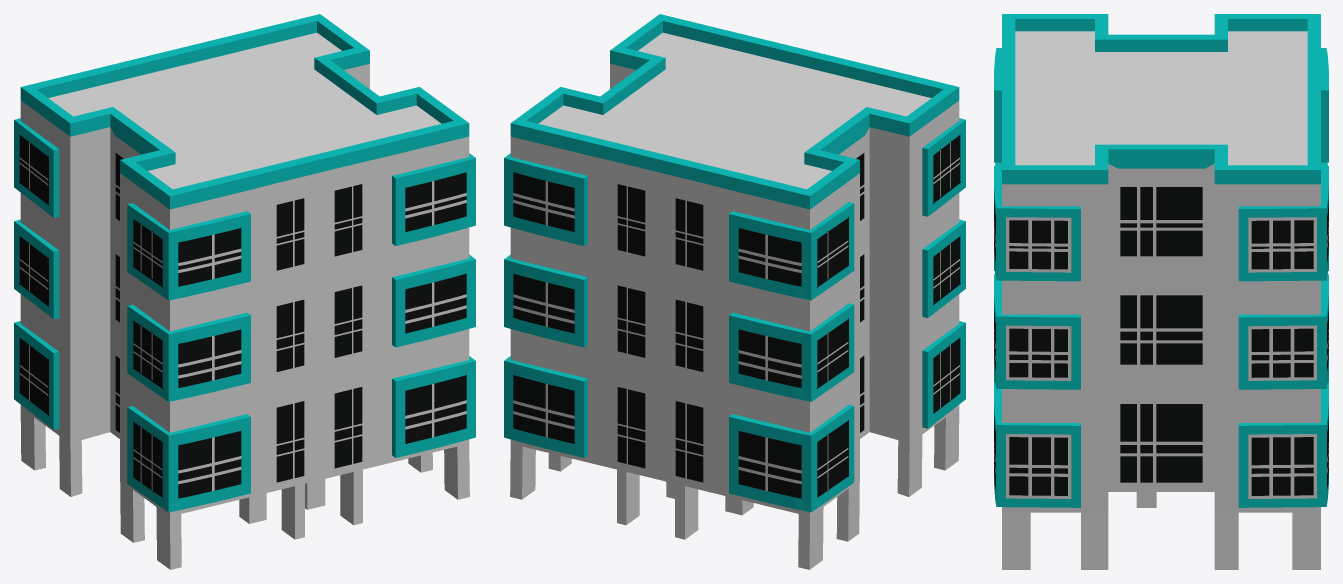
The model's file is apt-11.glb.
3 renders of one model, left to right at view 1: azimuth 30°, elevation 25°; view 2: azimuth 150°, elevation 25°; view 3: azimuth 270°, elevation 25°, orthographic. The views are drawn at different scales.
Bounding box in the file's own units: 1.59 × 1.83 × 1.39.
